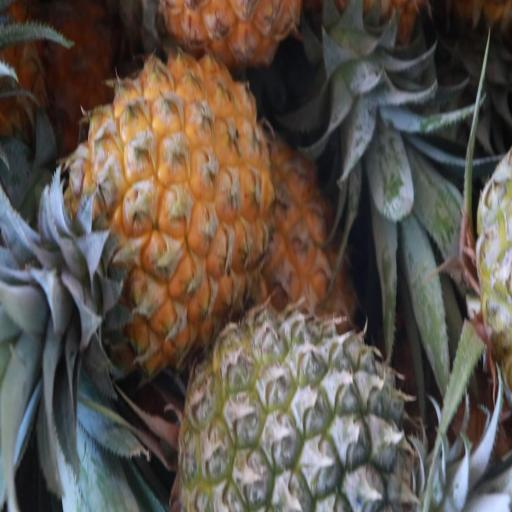Pineapple - v8 v1: (75, 55, 270, 371)
